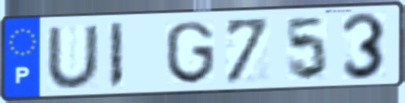3: (340, 10, 389, 82)
5: (283, 14, 330, 82)
7: (224, 16, 273, 86)
G: (163, 19, 218, 86)
I: (107, 20, 126, 91)
U: (44, 23, 102, 91)
